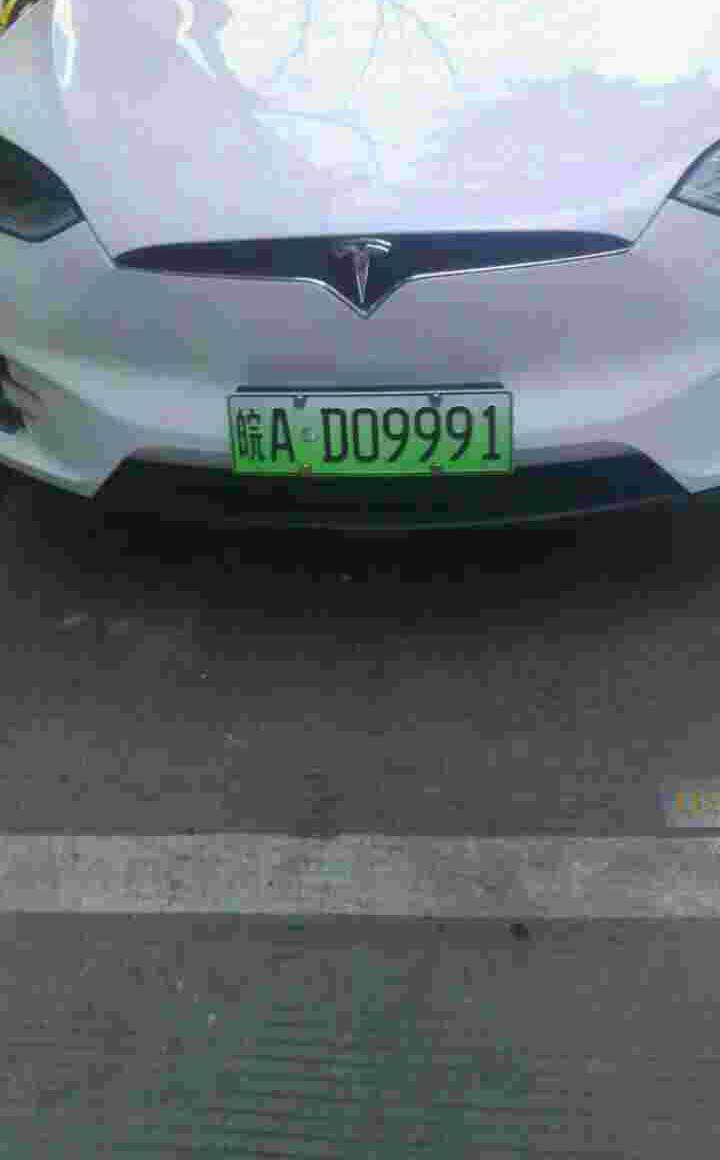car: (229, 386, 494, 473)
